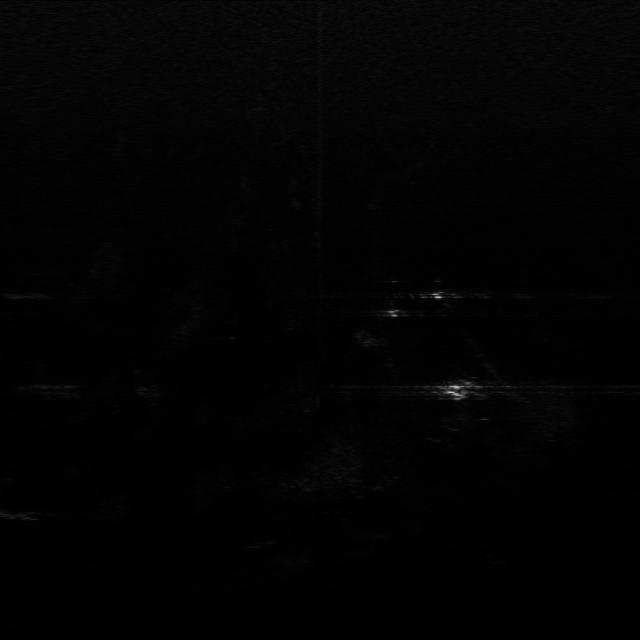rov: (438, 380, 482, 401)
